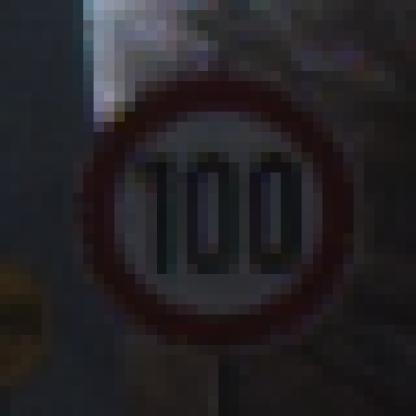Speed Limit 100: (84, 81, 355, 348)
